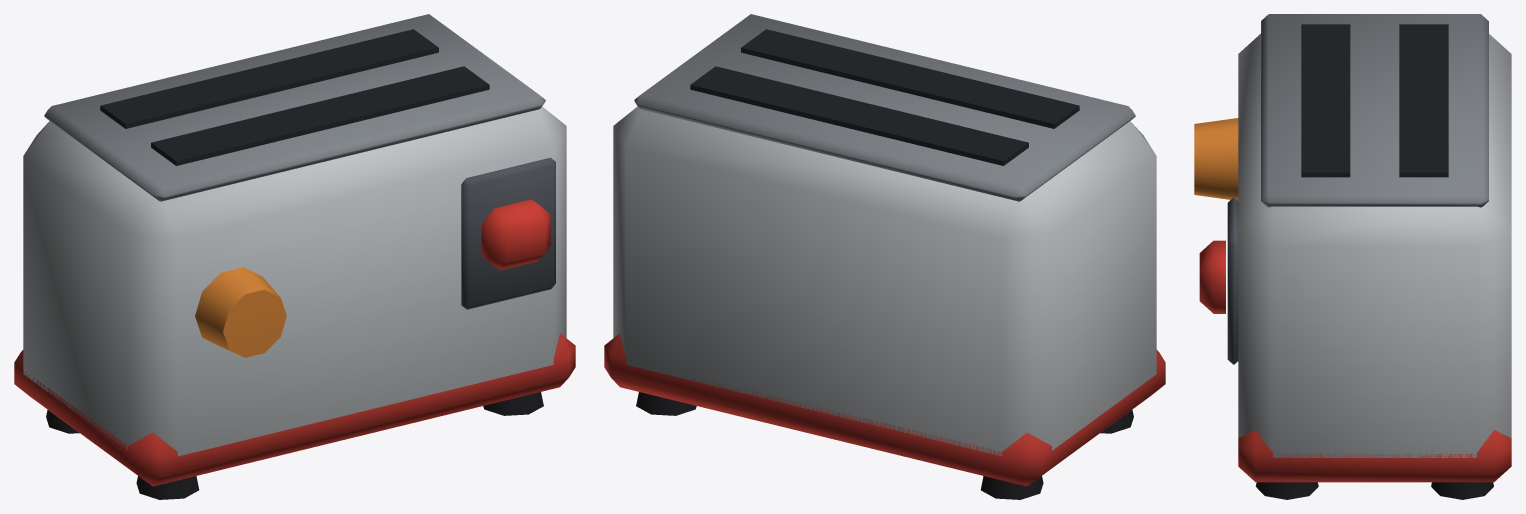
File: Toaster_01.glb
3 views of the same model, side by side, from view 1: azimuth 30°, elevation 25°; view 2: azimuth 150°, elevation 25°; view 3: azimuth 270°, elevation 25° (orthographic). The views are drawn at different scales.
Visible parts, largest first — view 1: SM_Toaster_01; view 2: SM_Toaster_01; view 3: SM_Toaster_01.
Part boxes in pixels (x1,y1,x2,y2): SM_Toaster_01: (14,14,575,499); SM_Toaster_01: (604,14,1165,499); SM_Toaster_01: (1194,14,1511,499).
Bounding box in the file's own units: 0.28 × 0.193 × 0.181.
1 material, 1 textured.
